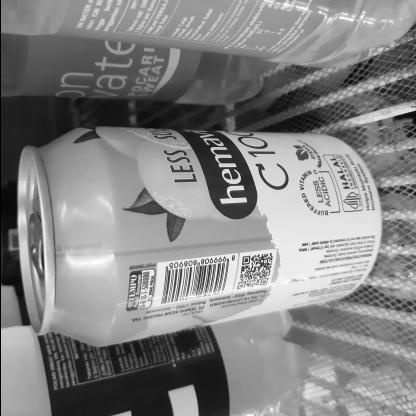alumunium_can: (9, 117, 399, 349)
